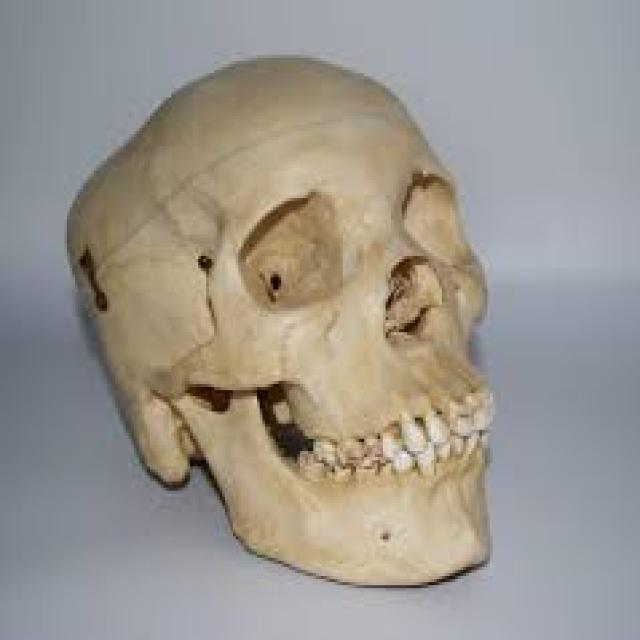skull: (42, 18, 544, 606)
